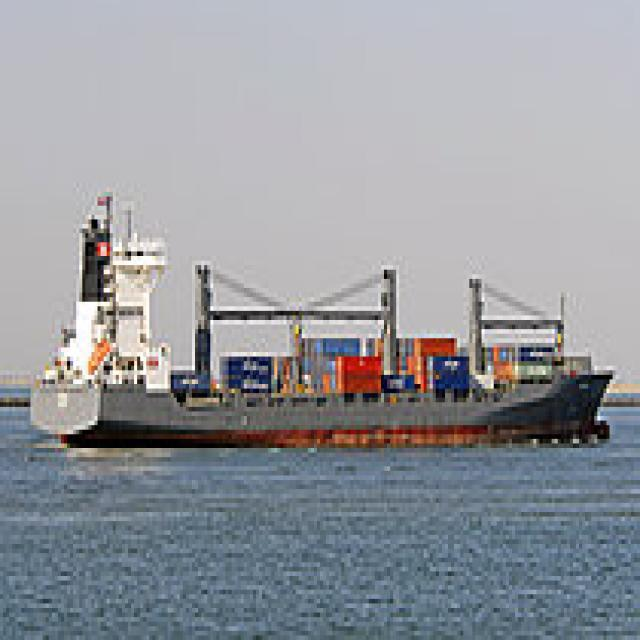Ship: (26, 175, 617, 454)
